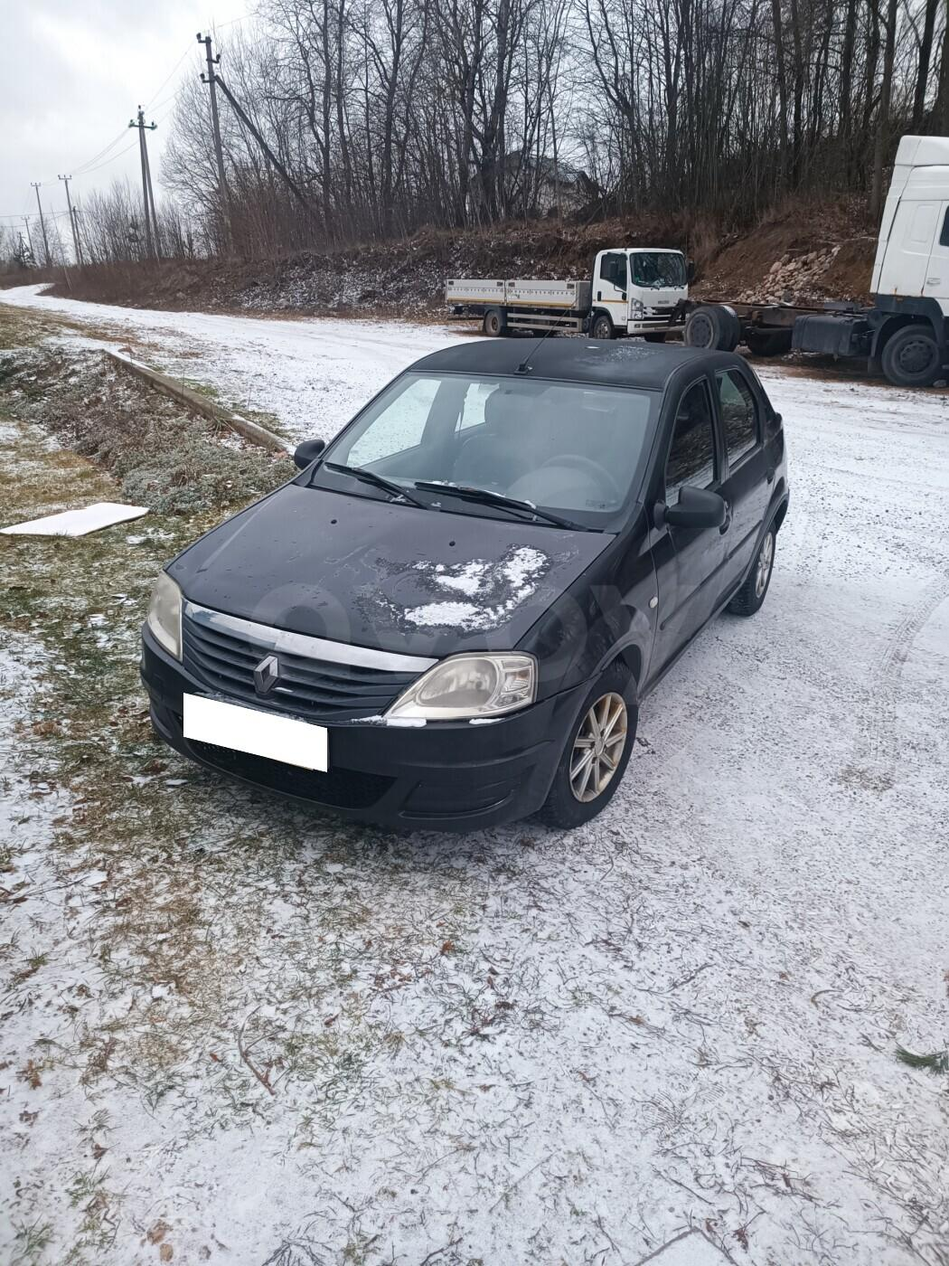Logan_2008-2015: (141, 331, 788, 839)
